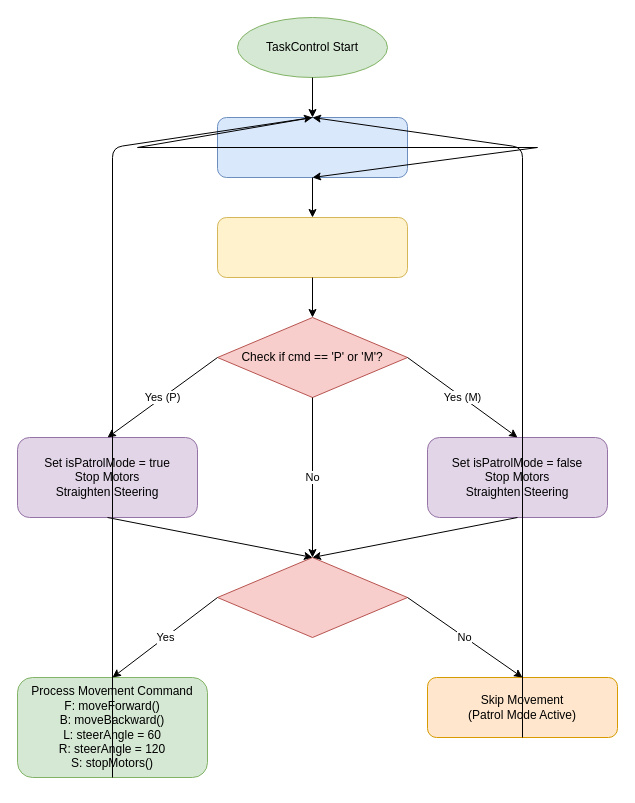
Some shapes in this 635 by 803 pixel diagram are drawn without their labels. Each missing label, with the centre of its shape:
"isPatrolMode == false?" belongs at (312,597).
"Receive Message from Queue" belongs at (312,247).
"Wait for Message from commandQueue" belongs at (312,147).
